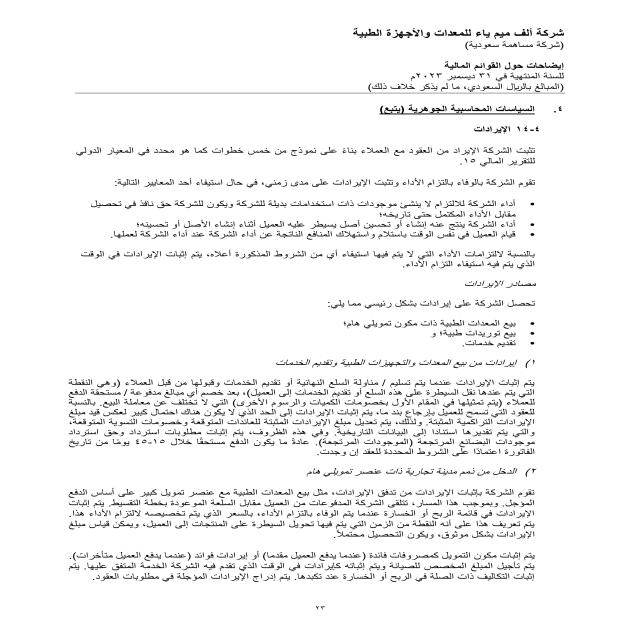notes: (423, 59, 569, 72)
text: (44, 100, 579, 591)
